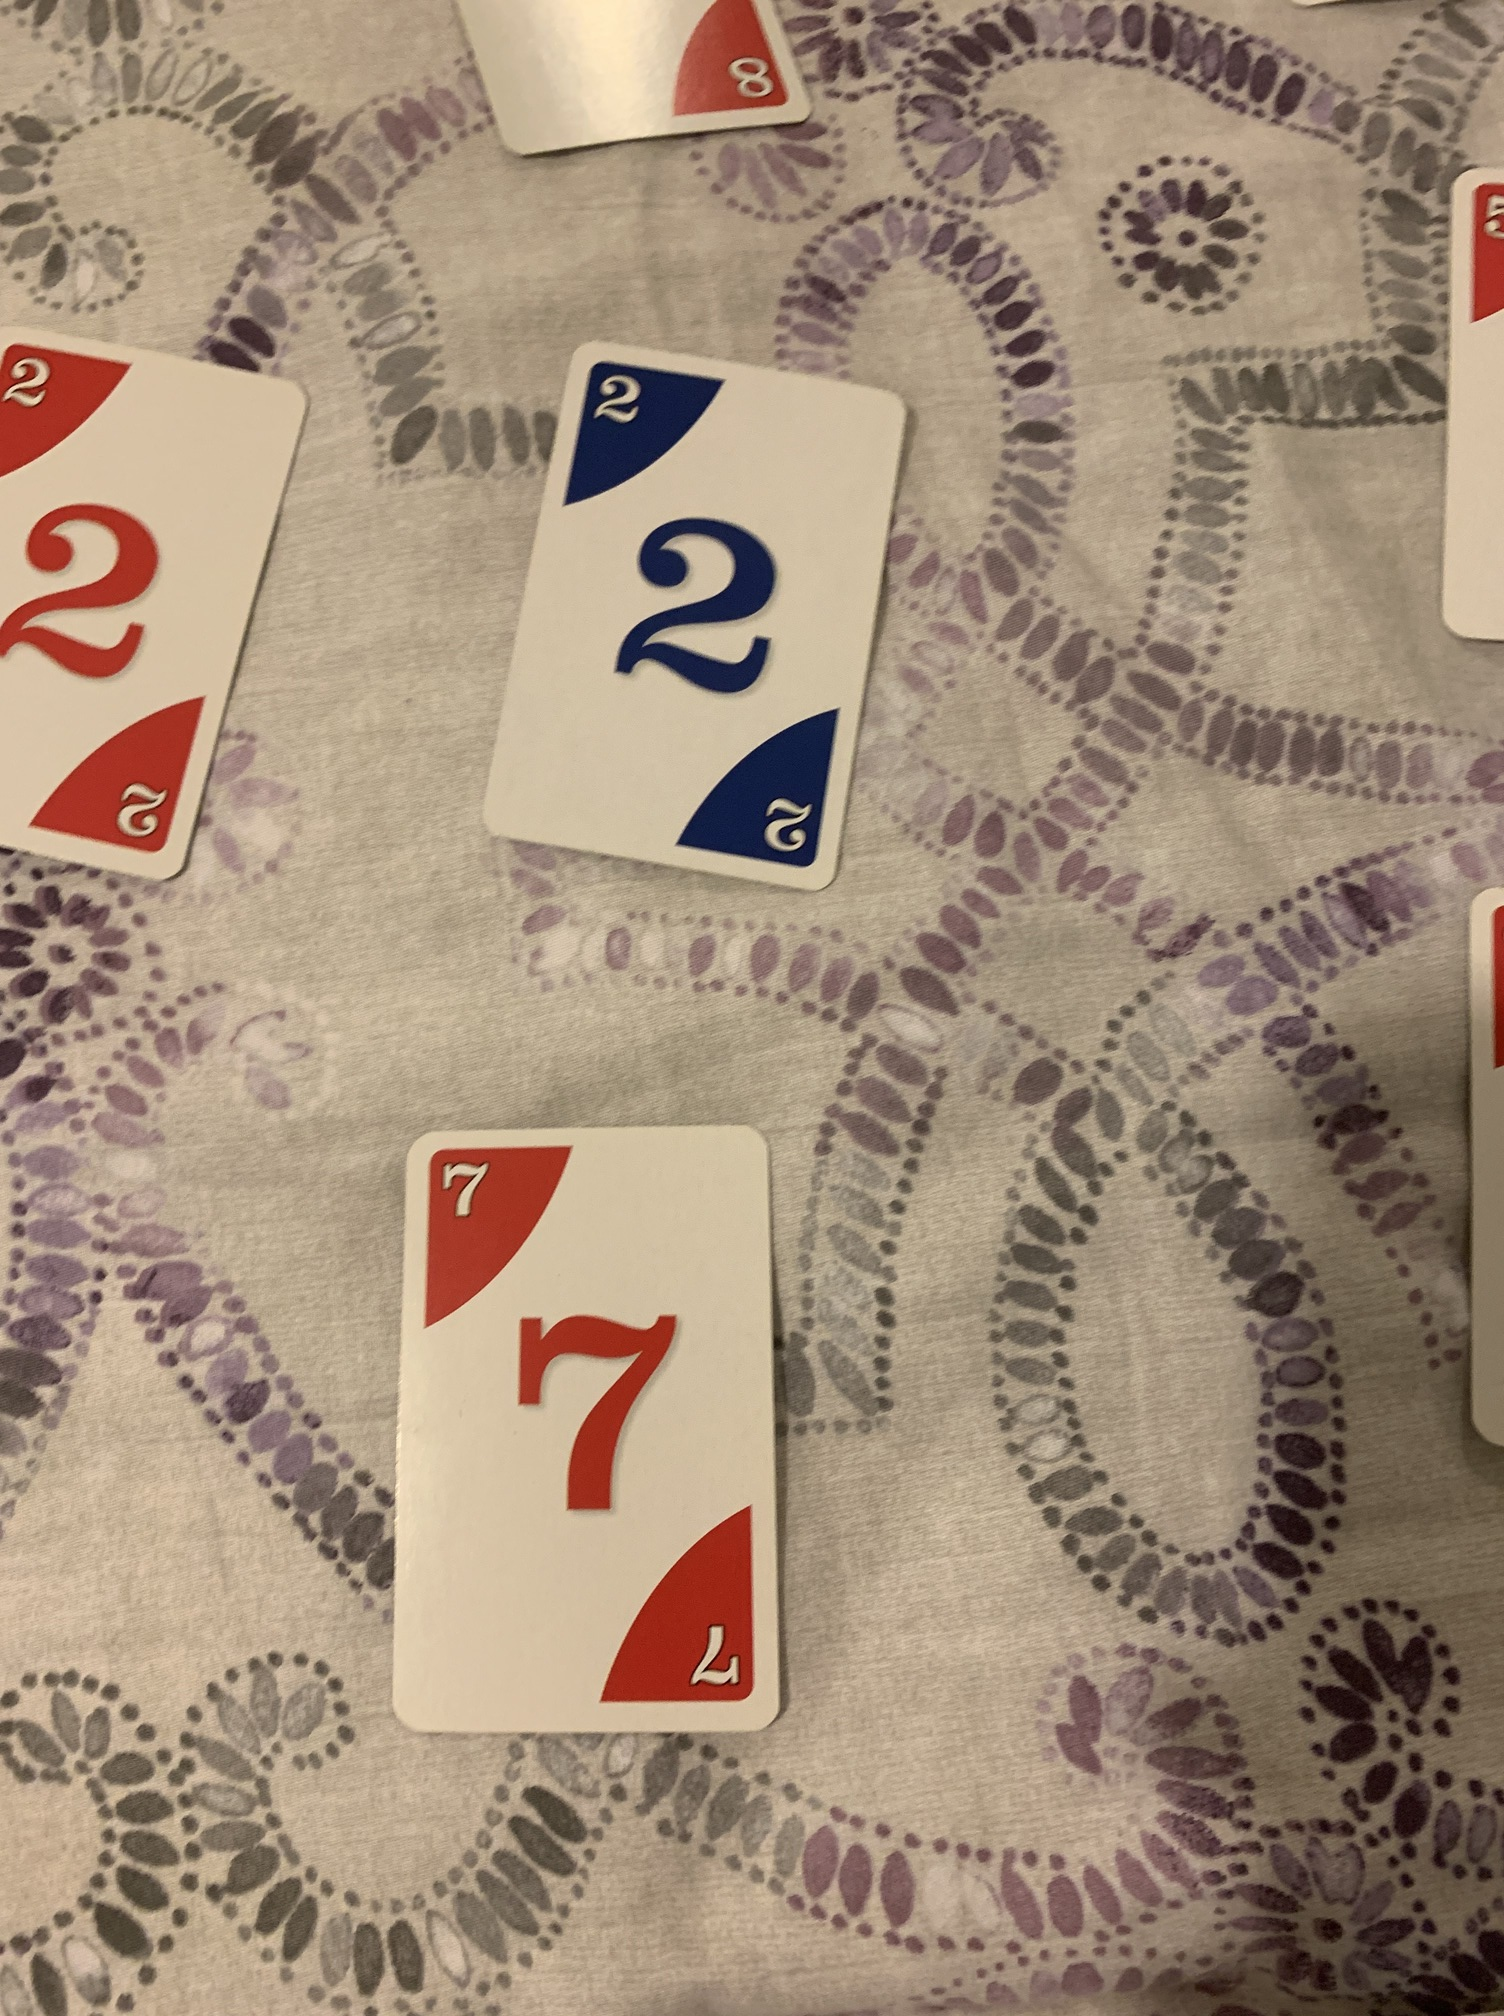seven: (378, 1115, 803, 1747)
two: (471, 333, 912, 896), (2, 324, 306, 886)
